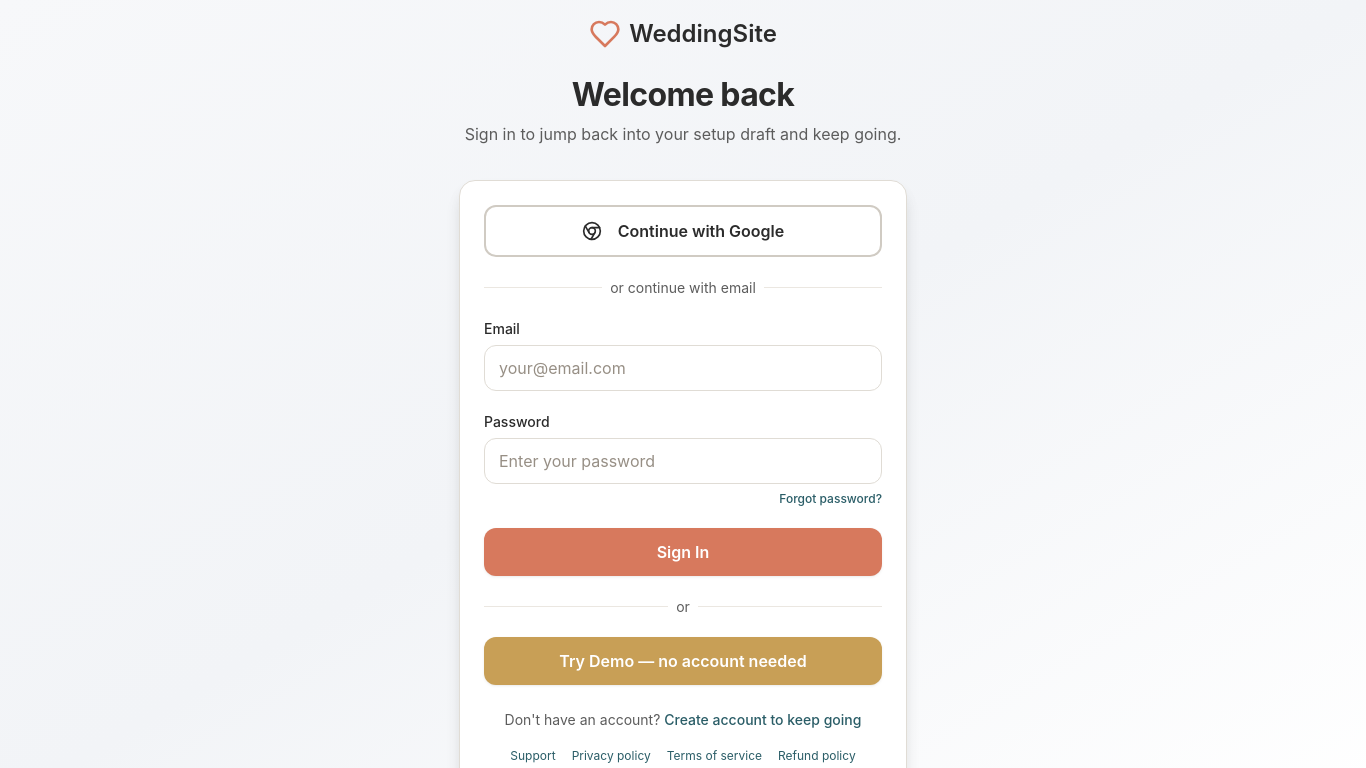
Test: Login quick start handoff › masks provider-heavy Google auth failures behind calm login copy
Click the button "Continue with Google".
click(683, 231)  # box [484, 205, 882, 257]
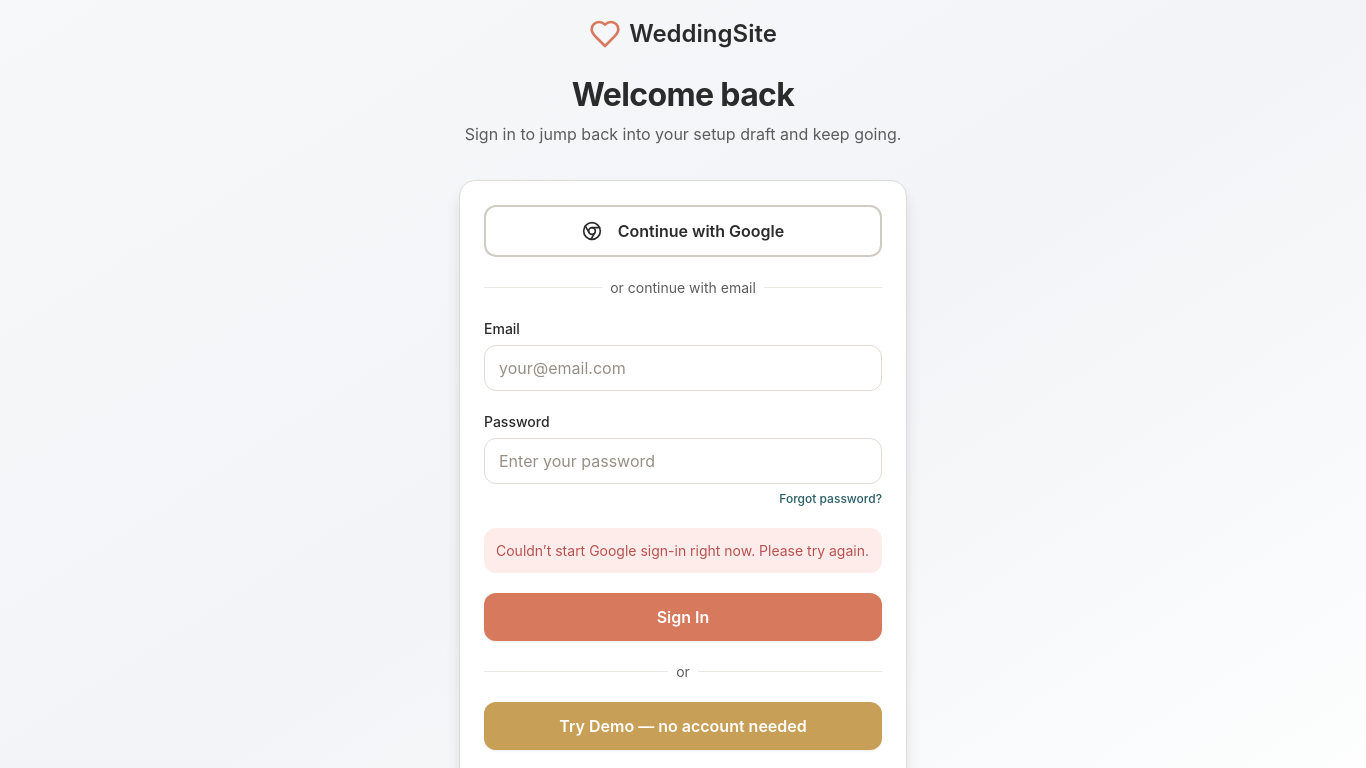
Check: the message reads "Couldn’t start Google sign-in right now. Please try again.", box [496, 542, 869, 559]
